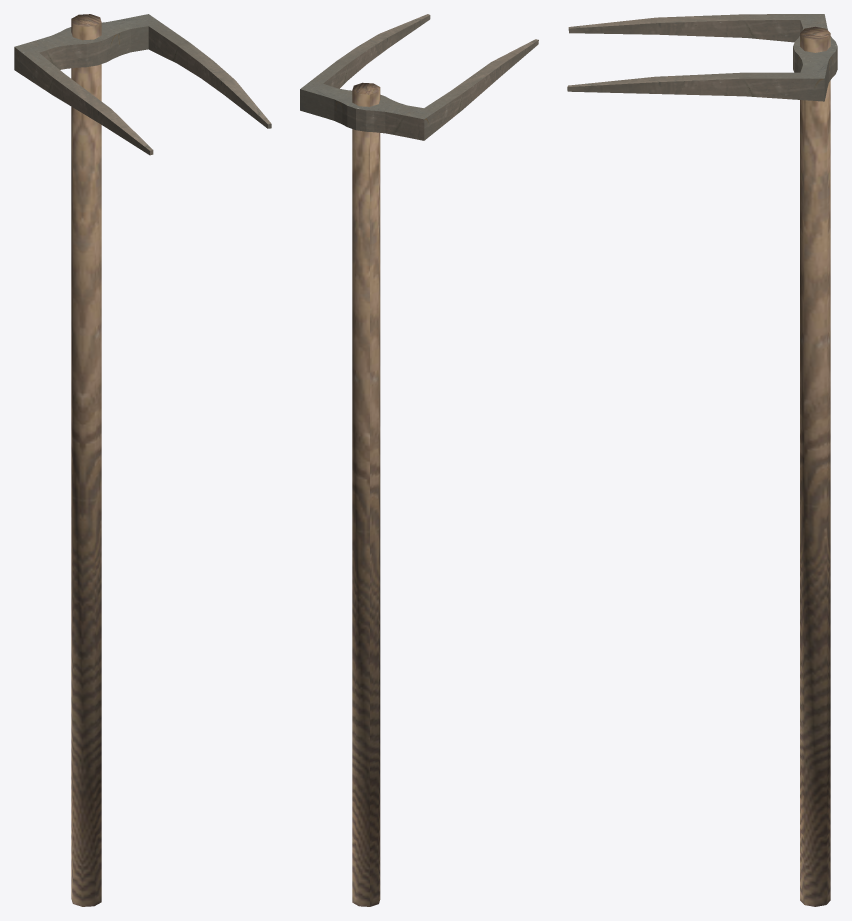
The model's file is SM_JahvalMahmaerd_00.fbx.
3 views of the same model, side by side, from view 1: azimuth 30°, elevation 25°; view 2: azimuth 150°, elevation 25°; view 3: azimuth 270°, elevation 25° (orthographic). The views are drawn at different scales.
Parts seen in each view (by area): view 1: SM_JahvalMahmaerd_00; view 2: SM_JahvalMahmaerd_00; view 3: SM_JahvalMahmaerd_00.
Boxes of the visible parts, x1,y1,x2,y2 form: SM_JahvalMahmaerd_00: [14, 14, 271, 906]; SM_JahvalMahmaerd_00: [300, 14, 538, 906]; SM_JahvalMahmaerd_00: [567, 14, 837, 906].
Size of the model in its own units: 22.71 by 139 by 39.21.
